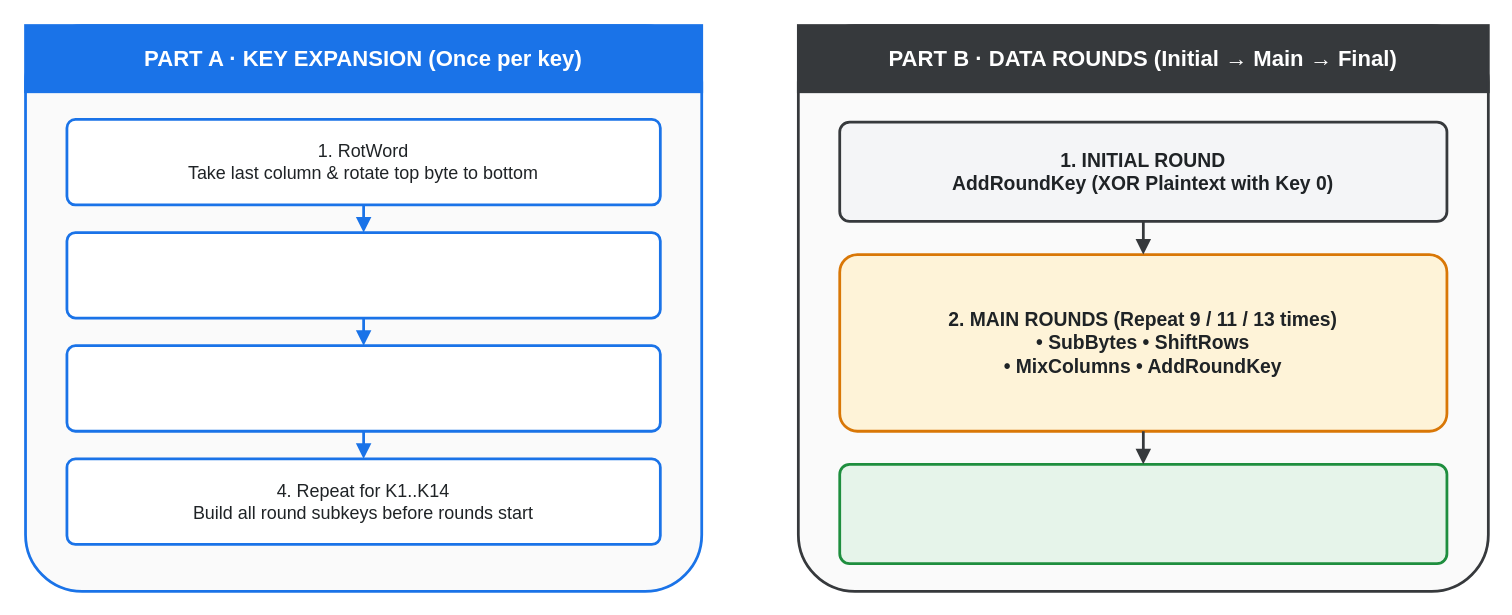
The diagram is 1512 pixels wide and 615 high, and some of its shapes have lost their labels. The box of each missing label's shape, as (x1, y1, x2, y2) in pixels:
2. SubBytes (S-Box) Swap each byte using fixed 16×16 lookup table: (65, 230, 661, 319)
3. FINAL ROUND (No MixColumns!) SubBytes → ShiftRows → AddRoundKey → Ciphertext: (838, 462, 1448, 564)
3. XOR w/ Col 0 & RCON Mix with first column + Round Constant: (65, 344, 661, 432)
